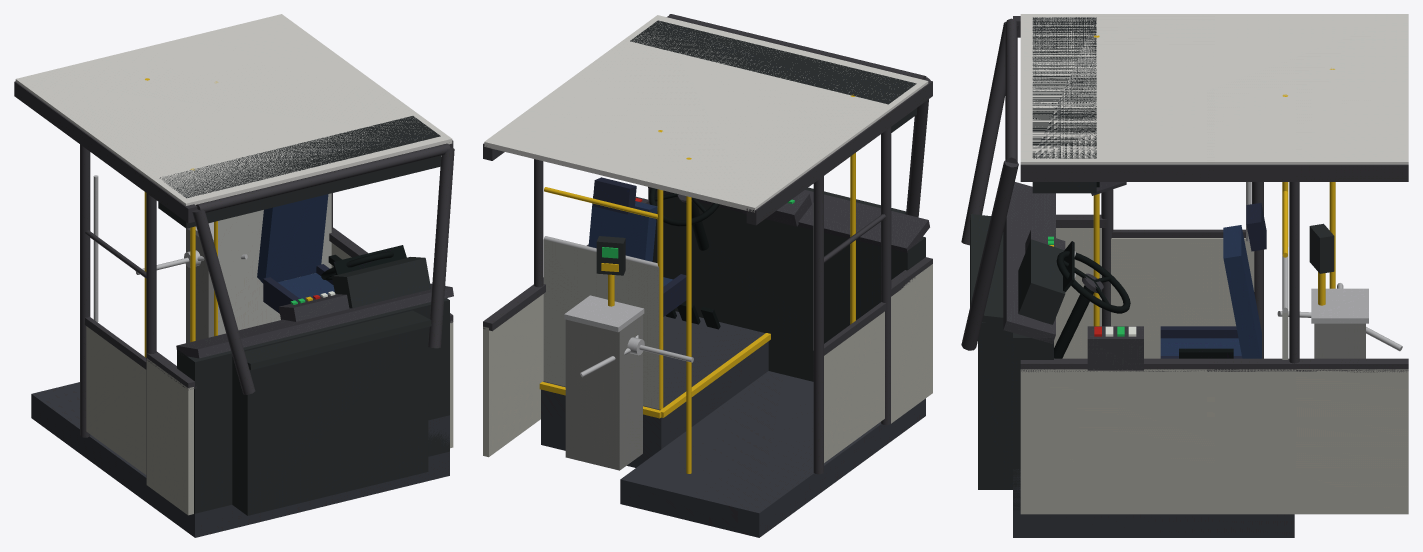
The model's file is cabine_urbano.glb.
3 views of the same model, side by side, from view 1: azimuth 30°, elevation 25°; view 2: azimuth 150°, elevation 25°; view 3: azimuth 270°, elevation 25° (orthographic). The views are drawn at different scales.
Parts seen in each view (by area): view 1: cabine; view 2: cabine; view 3: cabine.
Boxes of the visible parts, x1,y1,x2,y2 form: cabine: (14, 14, 454, 537); cabine: (483, 14, 932, 537); cabine: (961, 14, 1408, 537).
Size of the model in its own units: 2.32 by 2.75 by 2.94.
Materials: 1 (1 with a texture image).
